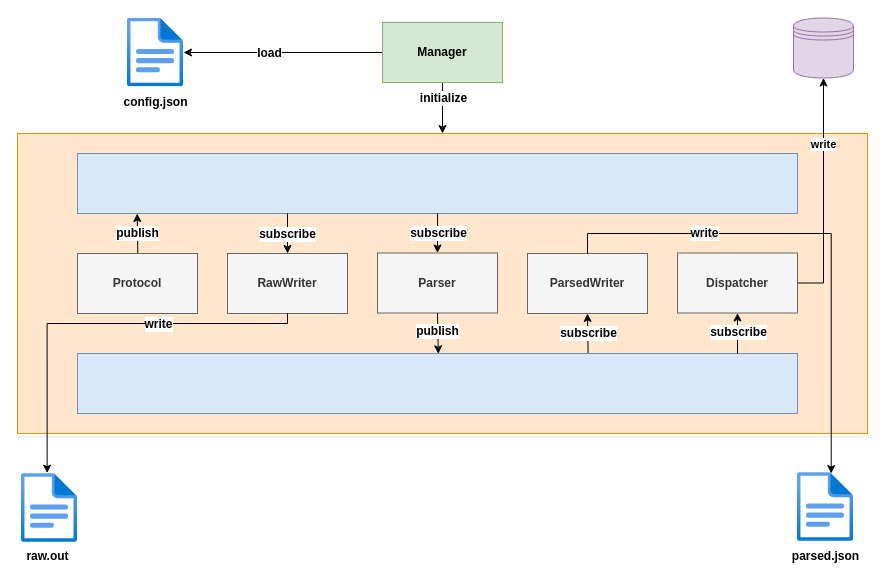
Some shapes in this 888 by 588 pixel diagram are drawn without their labels. Here are the shapes that lost their labels. From the top down, the box of each, then its label:
(792, 17, 854, 78): InfluxDB
(76, 152, 798, 214): Eventbus - device.raw
(76, 352, 798, 414): Eventbus - device.parsed
